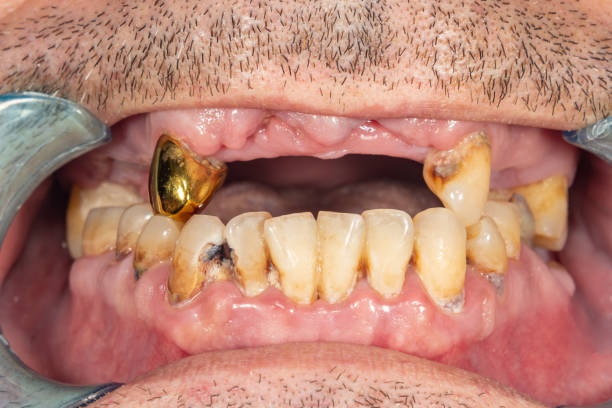Caries: (194, 236, 253, 297), (106, 235, 158, 289)
